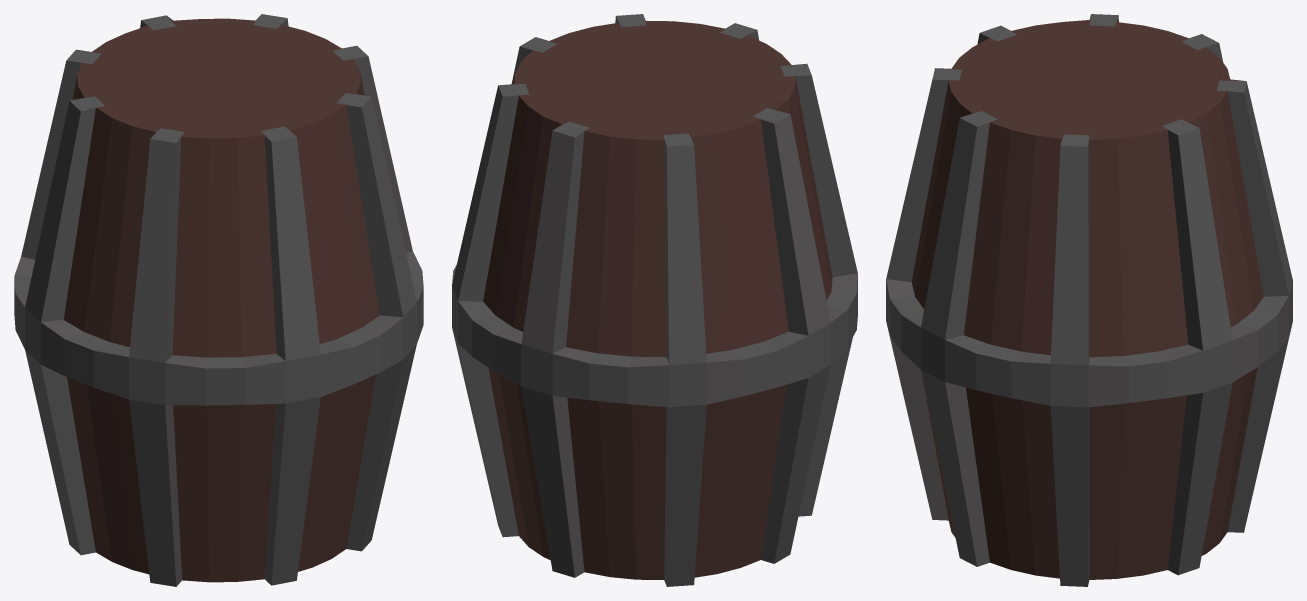
File: RasmusBarrel.fbx
3 renders of one model, left to right at view 1: azimuth 30°, elevation 25°; view 2: azimuth 150°, elevation 25°; view 3: azimuth 270°, elevation 25°, orthographic.
Visible parts, largest first — view 1: Cube; view 2: Cube; view 3: Cube.
Part boxes in pixels (x1,y1,x2,y2): Cube: (14, 14, 423, 586); Cube: (452, 14, 857, 586); Cube: (886, 14, 1292, 586).
Size of the model in its own units: 148 by 148 by 177.
